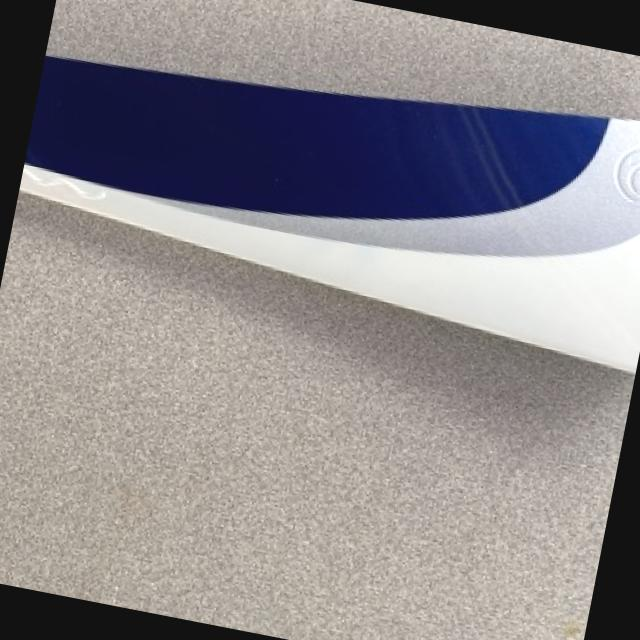healthy: (22, 56, 640, 368)
